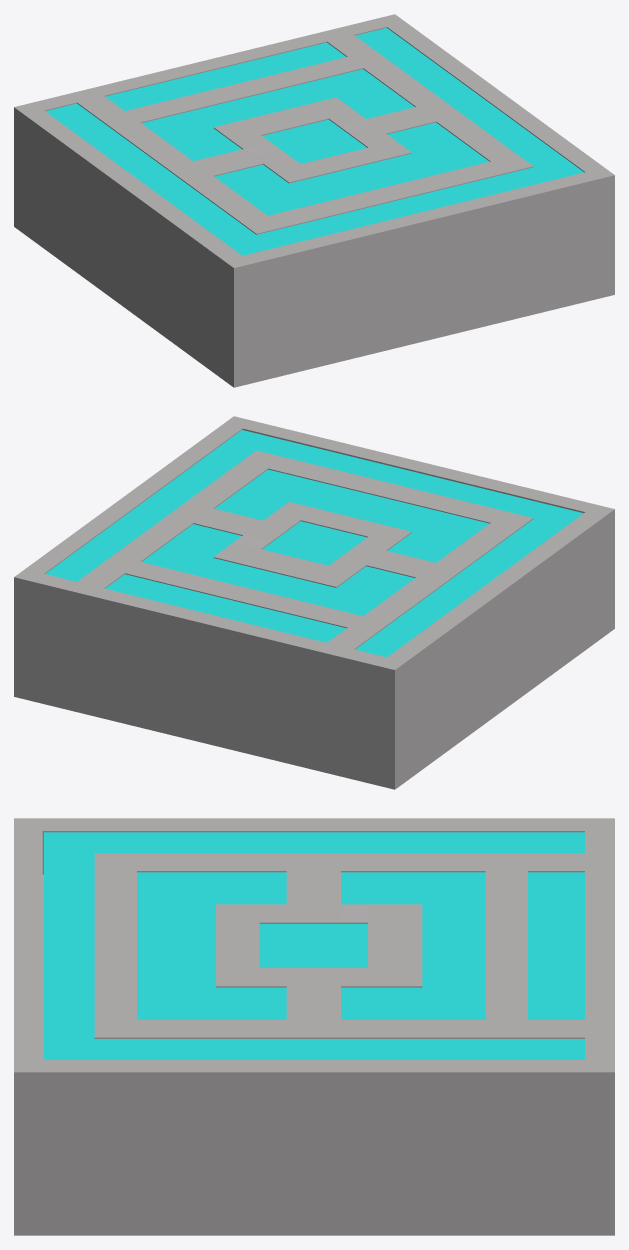
File: Base Tile 1 Blue.fbx
The picture shows the model from 3 angles, top to bottom: view 1: azimuth 30°, elevation 25°; view 2: azimuth 150°, elevation 25°; view 3: azimuth 270°, elevation 25°; orthographic projection. The views are drawn at different scales.
Parts seen in each view (by area): view 1: Body, Color 2; view 2: Body, Color 2; view 3: Body, Color 2.
Part boxes in pixels (x1=…): Body: x1=14, y1=14, x2=614, y2=387; Color 2: x1=45, y1=28, x2=583, y2=255; Body: x1=14, y1=416, x2=614, y2=789; Color 2: x1=45, y1=430, x2=583, y2=657; Body: x1=14, y1=818, x2=614, y2=1235; Color 2: x1=44, y1=832, x2=584, y2=1059.
Size of the model in its own units: 200 by 60.02 by 200.
